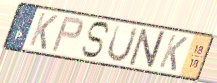K: (27, 10, 60, 51), (157, 32, 190, 73)
N: (127, 28, 166, 70)
P: (49, 16, 86, 54)
S: (80, 20, 111, 60)
U: (105, 23, 140, 64)
